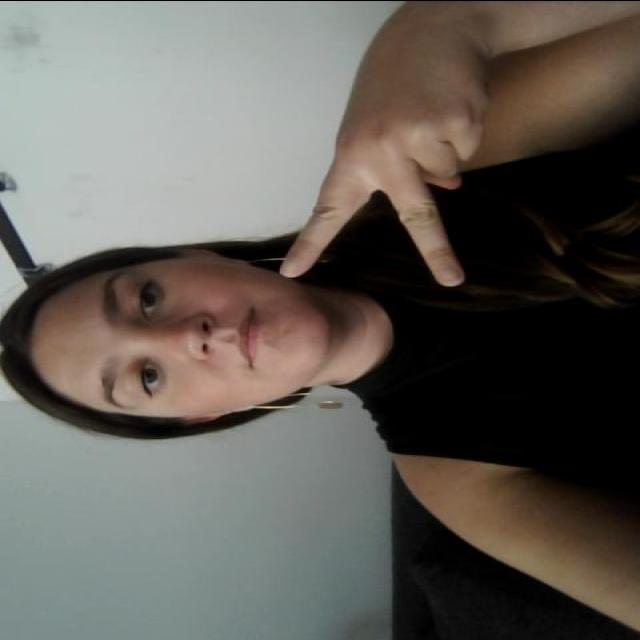Scissors: (251, 21, 509, 298)
